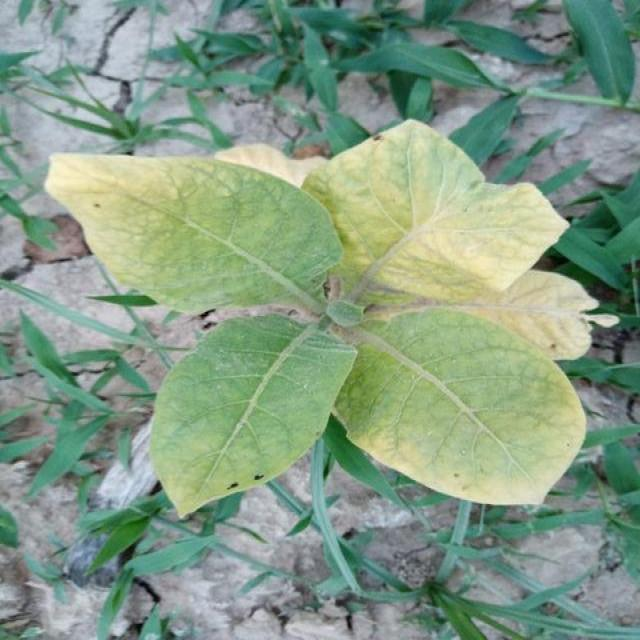crop: (55, 123, 599, 506)
